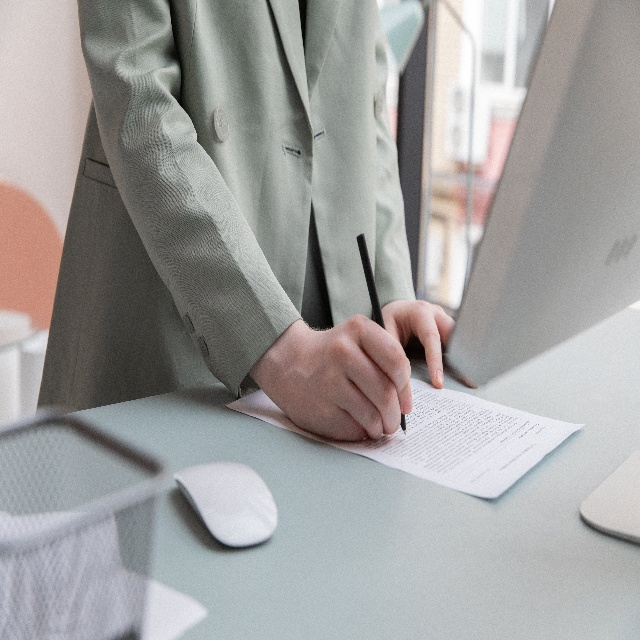Sin_guantes: (298, 313, 412, 445), (381, 291, 479, 391)
